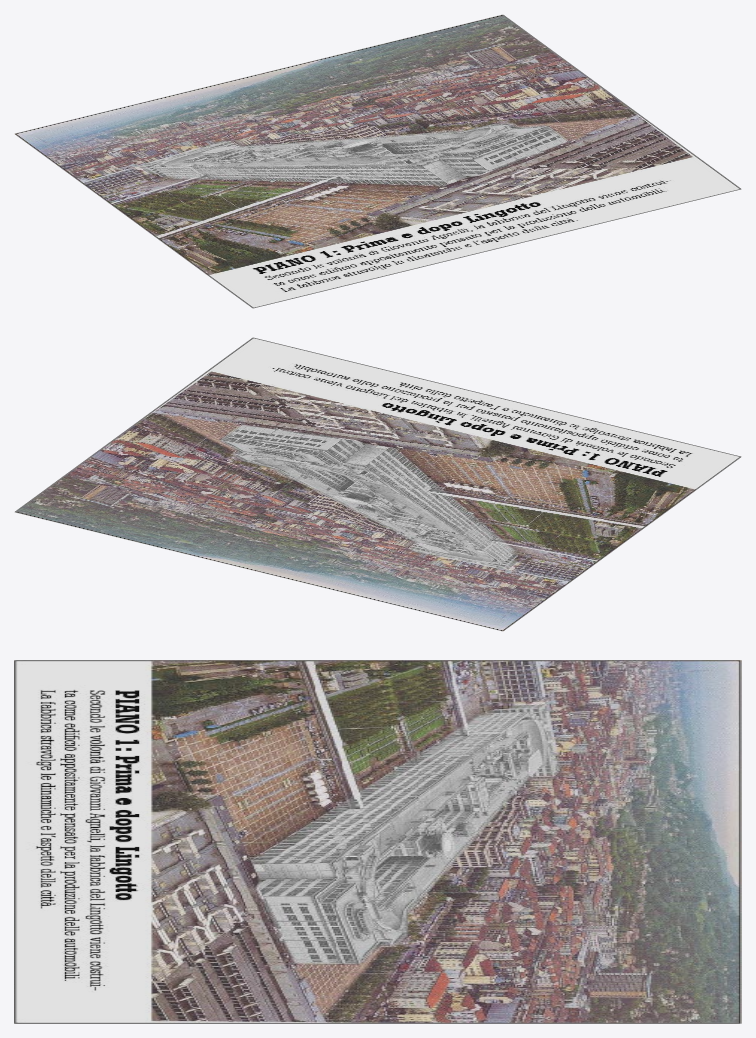
File: MAMMA.obj
The picture shows the model from 3 angles, top to bottom: view 1: azimuth 30°, elevation 25°; view 2: azimuth 150°, elevation 25°; view 3: azimuth 270°, elevation 25°; orthographic projection. The views are drawn at different scales.
Visible parts, largest first — view 1: Plane001; view 2: Plane001; view 3: Plane001.
Boxes of the visible parts, left/top/right/bottom form: Plane001: left=14, top=14, right=741, bottom=308; Plane001: left=14, top=337, right=741, bottom=631; Plane001: left=14, top=660, right=741, bottom=1023.
Size of the model in its own units: 2.27 by 0 by 1.92.
